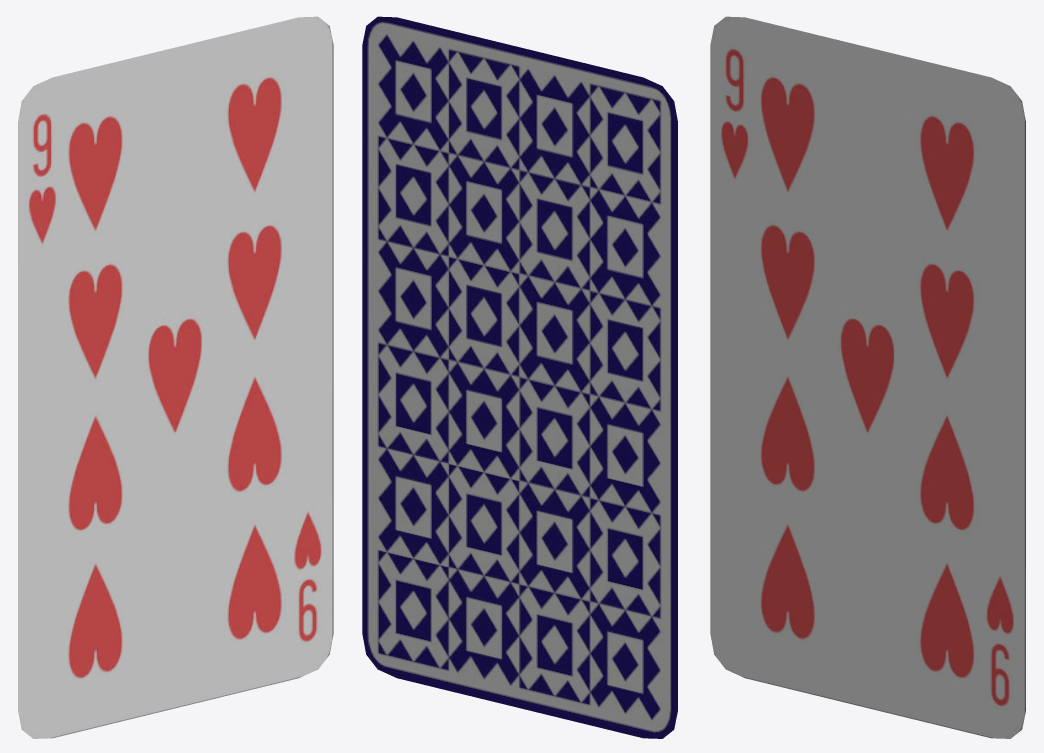
The picture shows the model from 3 angles, left to right: view 1: azimuth 30°, elevation 25°; view 2: azimuth 150°, elevation 25°; view 3: azimuth 330°, elevation 25°; orthographic projection.
Bounding box in the file's own units: 50 × 100 × 1.
Materials: 2 (2 with a texture image).
